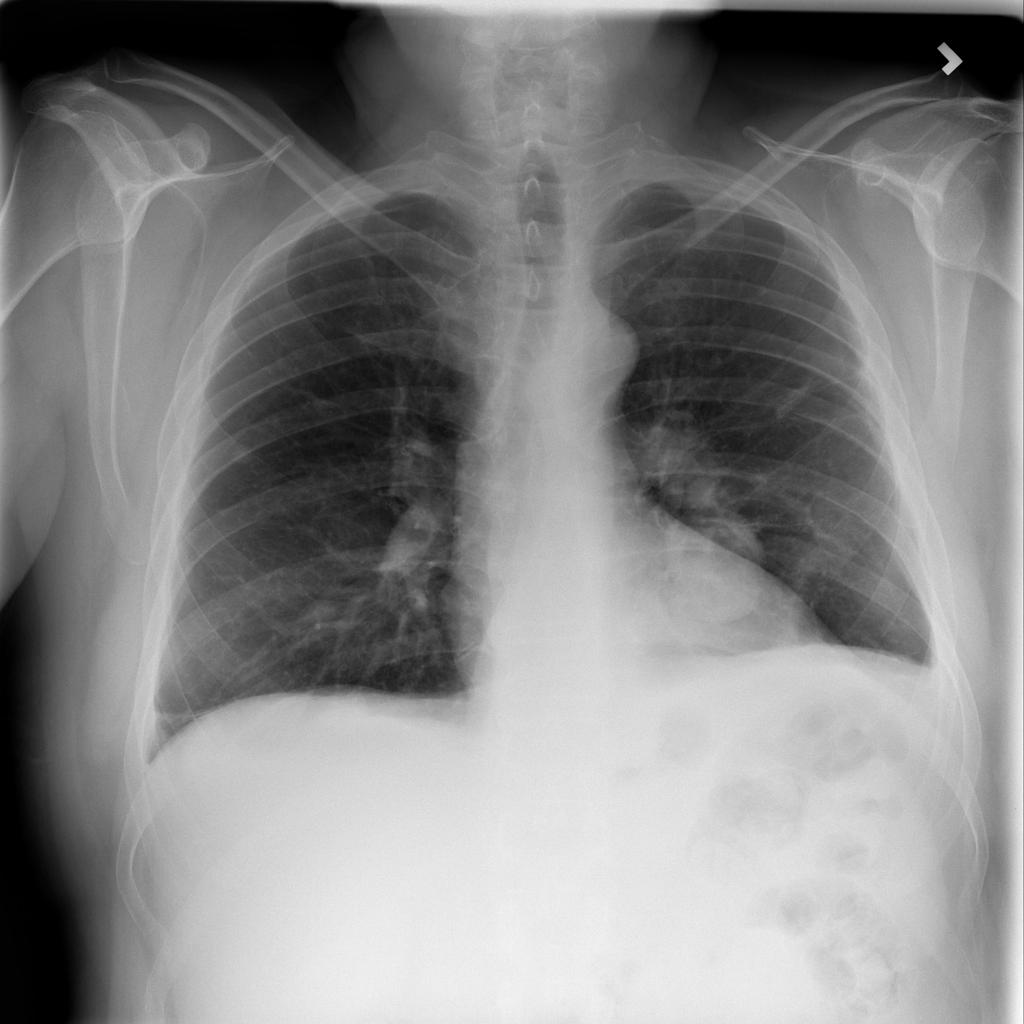nodule: (639, 497, 782, 624)
